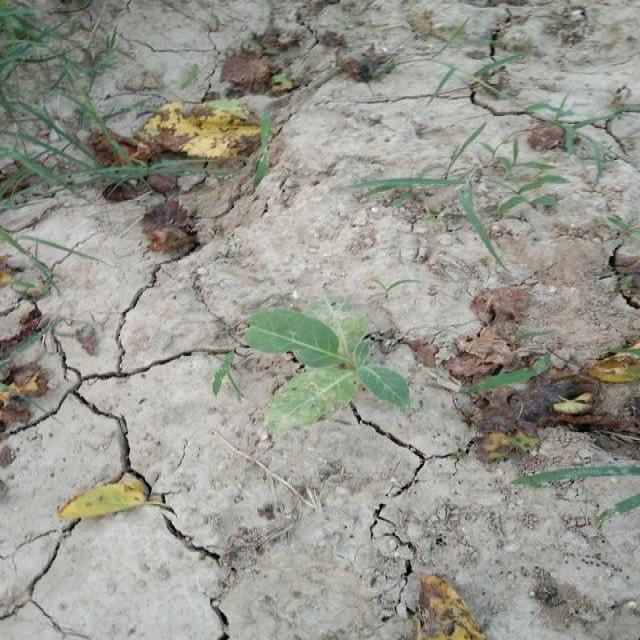crop: (245, 298, 412, 456)
